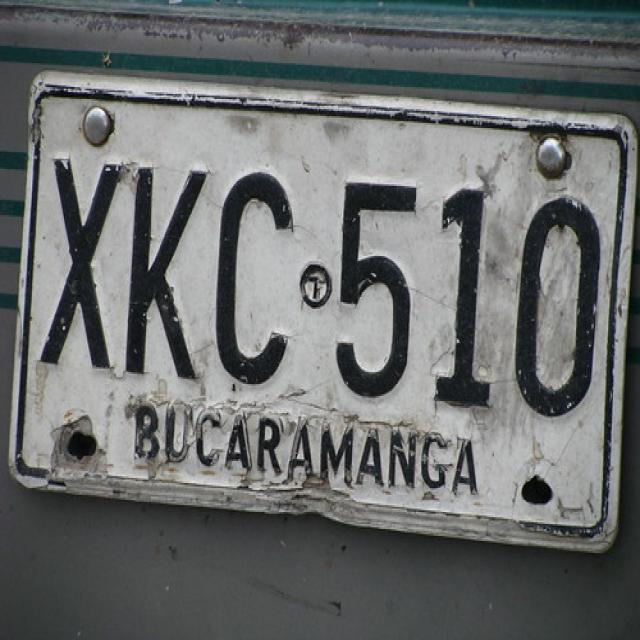placas: (13, 133, 617, 426)
